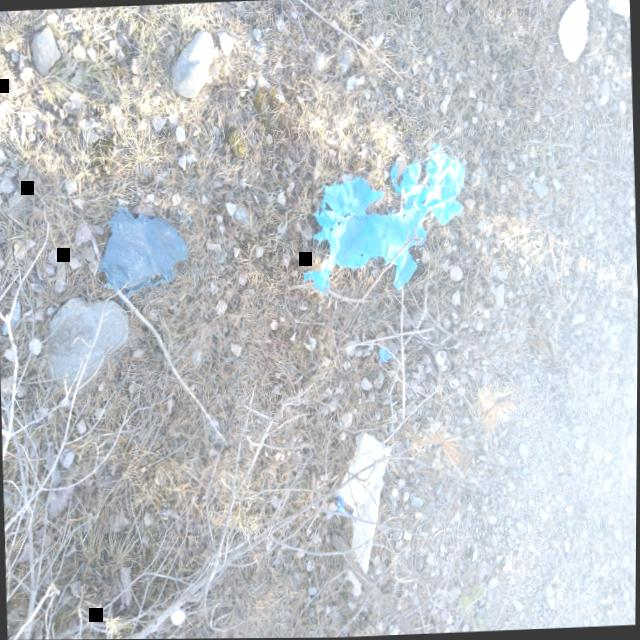Plastic film: (303, 143, 464, 295), (97, 206, 187, 299), (336, 432, 390, 574), (346, 570, 361, 596), (337, 497, 351, 515), (378, 349, 391, 362)
Styrofoam piece: (557, 0, 588, 63)
